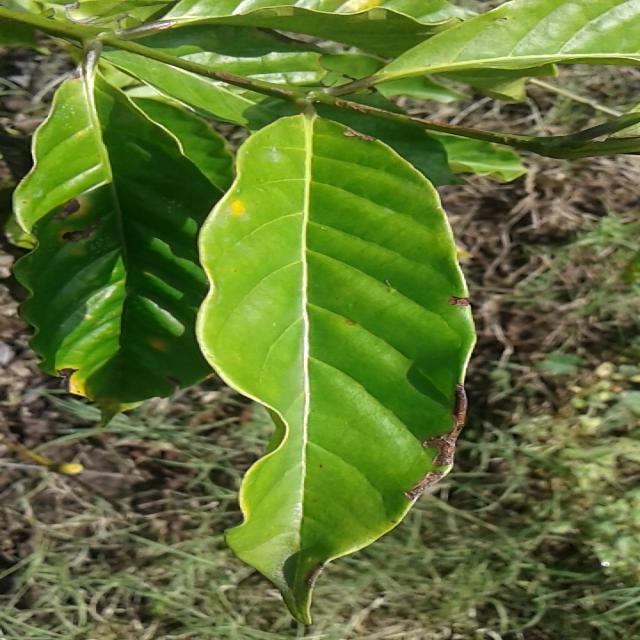Enfermedad-Roya: (195, 114, 476, 632)
